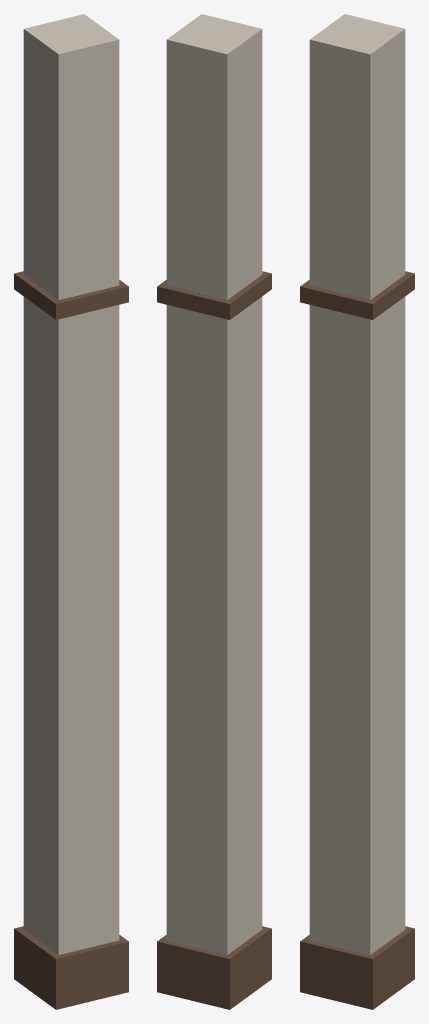
The model's file is Post.glb.
3 renders of one model, left to right at view 1: azimuth 30°, elevation 25°; view 2: azimuth 150°, elevation 25°; view 3: azimuth 330°, elevation 25°, orthographic.
Visible parts, largest first — view 1: Post; view 2: Post; view 3: Post.
Part boxes in pixels (x1,y1,x2,y2): Post: (14, 14, 128, 1009); Post: (157, 14, 271, 1009); Post: (300, 14, 414, 1009).
Size of the model in its own units: 0.24 by 3 by 0.24.
